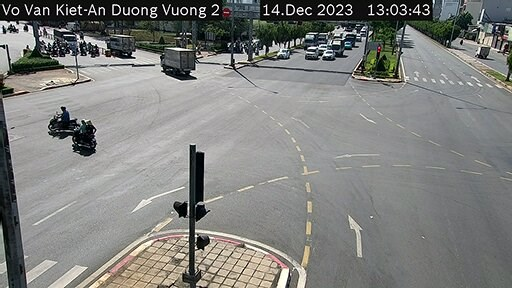car: (301, 45, 319, 67), (320, 48, 337, 63), (273, 49, 285, 63)
motorbike: (62, 119, 98, 153), (43, 106, 76, 135)
truck: (158, 46, 195, 84), (102, 26, 138, 63)
